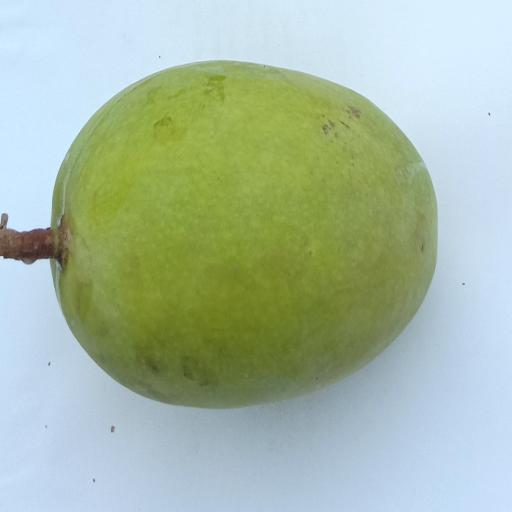mango-unripe: (44, 38, 450, 435)
